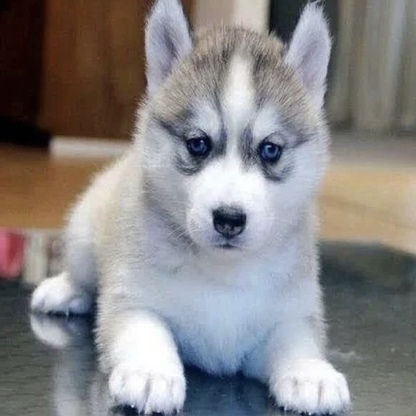husky: (22, 1, 358, 416)
